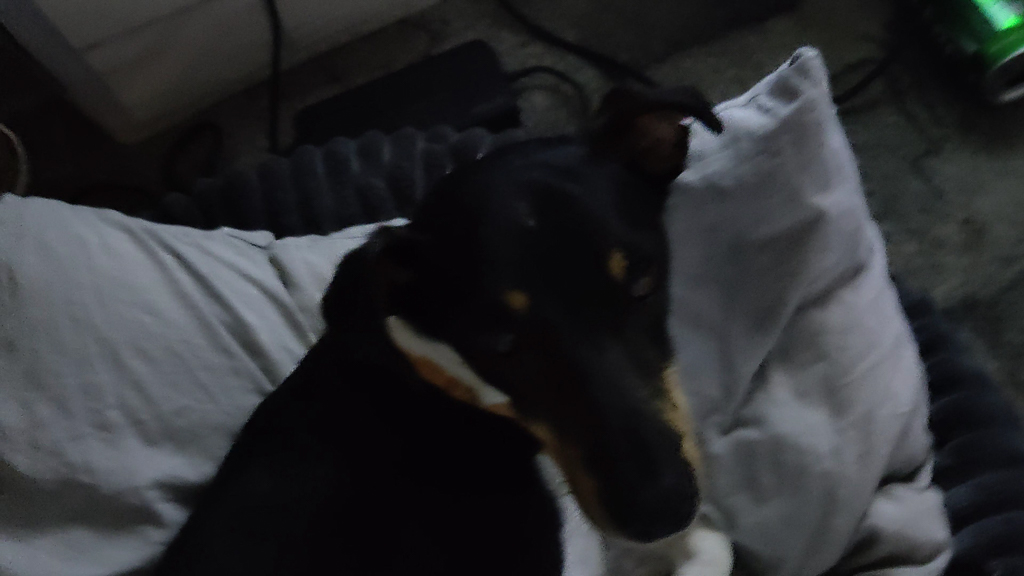Dog: (105, 62, 751, 576)
